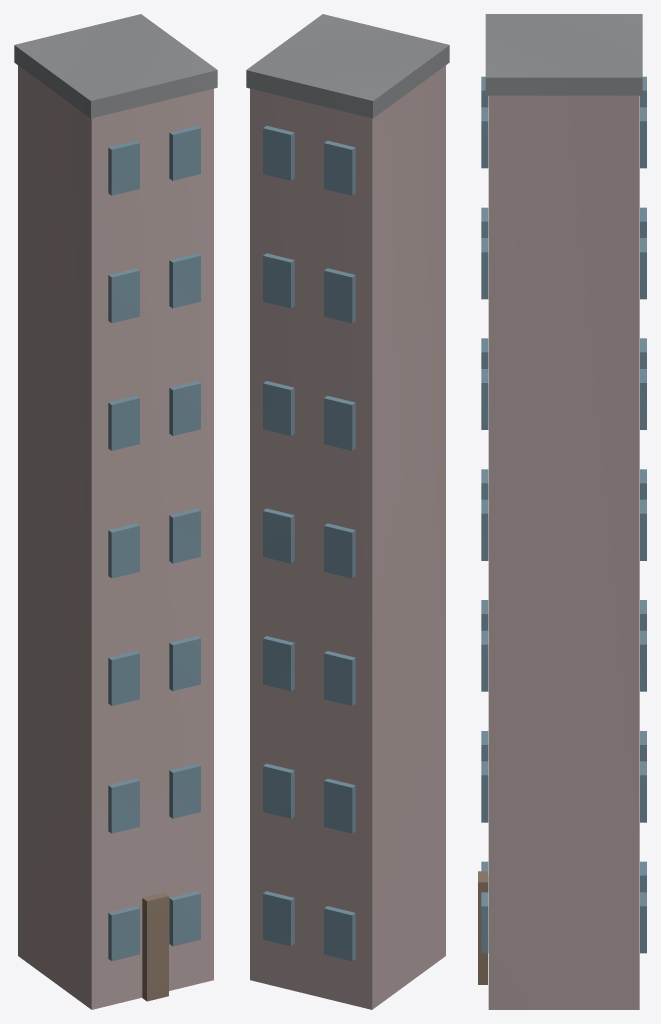
Rendered from lighthouse-04.glb.
3 views of the same model, side by side, from view 1: azimuth 30°, elevation 25°; view 2: azimuth 150°, elevation 25°; view 3: azimuth 270°, elevation 25° (orthographic). The views are drawn at different scales.
Parts seen in each view (by area): view 1: world; view 2: world; view 3: world.
Boxes of the visible parts, x1,y1,x2,y2 form: world: (14, 14, 217, 1009); world: (246, 14, 449, 1009); world: (478, 14, 646, 1009).
Bounding box in the file's own units: 0.5306 × 3.64 × 0.5964.
